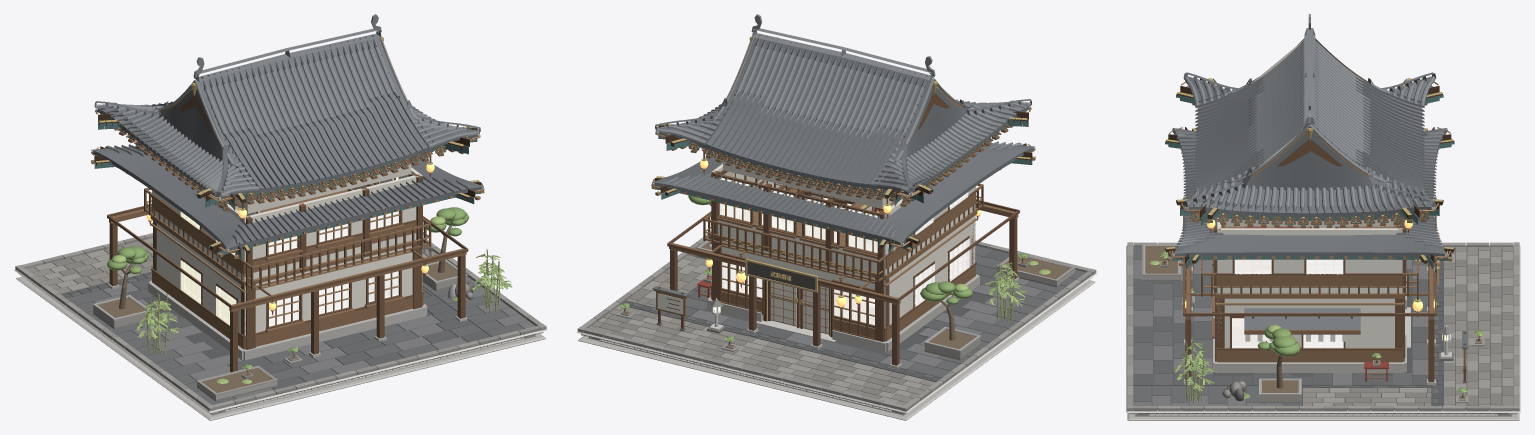
Rendered from wenmai_gallery_v5.glb.
3 views of the same model, side by side, from view 1: azimuth 30°, elevation 25°; view 2: azimuth 150°, elevation 25°; view 3: azimuth 270°, elevation 25° (orthographic). The views are drawn at different scales.
Parts seen in each view (by area): view 1: ROOF_MAIN, SITE_PAVE_FIELD, ROOF_SKIRT, SITE_BASE_COURSES, SITE_KERB, SITE_BEDS, SITE_PAVE_APRON, WALL_PlinthB, TRIM_WainB, WALL_Attic, SITE_BAMBOO_A, VER_Beam-1 (+22 smaller); view 2: ROOF_MAIN, ROOF_SKIRT, SITE_PAVE_APRON, SITE_PAVE_FIELD, SITE_BASE_COURSES, SITE_KERB, SITE_BEDS, SITE_PAVE_THRESHOLD, SITE_PAVE_WALK, WALL_F2_Sill, WALL_Attic, SITE_BAMBOO_A (+22 smaller); view 3: ROOF_MAIN, SITE_PAVE_FIELD, ROOF_SKIRT, SITE_PAVE_APRON, SITE_BASE_COURSES, SITE_KERB, SITE_PAVE_WALK, SITE_BEDS, TRIM_WainR.001, TRIM_WainR, CANOPY_Slab, WALL_F1_Side1_SEND (+22 smaller).
Part boxes in pixels (bbox=[...]): ROOF_MAIN: bbox=[94, 14, 480, 211]; SITE_PAVE_FIELD: bbox=[66, 276, 535, 404]; ROOF_SKIRT: bbox=[91, 144, 484, 260]; SITE_BASE_COURSES: bbox=[14, 269, 547, 420]; SITE_KERB: bbox=[15, 233, 546, 411]; SITE_BEDS: bbox=[92, 259, 467, 401]; SITE_PAVE_APRON: bbox=[26, 238, 152, 294]; WALL_PlinthB: bbox=[243, 305, 426, 360]; TRIM_WainB: bbox=[244, 294, 422, 349]; WALL_Attic: bbox=[237, 162, 411, 213]; SITE_BAMBOO_A: bbox=[136, 293, 179, 354]; VER_Beam-1: bbox=[229, 248, 466, 311]; ROOF_MAIN: bbox=[655, 14, 1031, 206]; ROOF_SKIRT: bbox=[651, 140, 1035, 254]; SITE_PAVE_APRON: bbox=[588, 305, 935, 405]; SITE_PAVE_FIELD: bbox=[686, 245, 1085, 377]; SITE_BASE_COURSES: bbox=[576, 268, 1097, 420]; SITE_KERB: bbox=[577, 231, 1096, 411]; SITE_BEDS: bbox=[696, 240, 1075, 360]; SITE_PAVE_THRESHOLD: bbox=[620, 301, 941, 381]; SITE_PAVE_WALK: bbox=[626, 255, 711, 308]; WALL_F2_Sill: bbox=[718, 220, 887, 274]; WALL_Attic: bbox=[723, 158, 892, 208]; SITE_BAMBOO_A: bbox=[985, 258, 1026, 322]; ROOF_MAIN: bbox=[1176, 14, 1443, 228]; SITE_PAVE_FIELD: bbox=[1133, 247, 1431, 407]; ROOF_SKIRT: bbox=[1165, 127, 1454, 269]; SITE_PAVE_APRON: bbox=[1444, 247, 1513, 407]; SITE_BASE_COURSES: bbox=[1126, 245, 1520, 420]; SITE_KERB: bbox=[1127, 242, 1519, 411]; SITE_PAVE_WALK: bbox=[1303, 388, 1431, 407]; SITE_BEDS: bbox=[1142, 244, 1301, 403]; TRIM_WainR.001: bbox=[1217, 275, 1402, 286]; TRIM_WainR: bbox=[1217, 350, 1402, 362]; CANOPY_Slab: bbox=[1244, 308, 1360, 329]; WALL_F1_Side1_SEND: bbox=[1343, 298, 1394, 348].
Size of the model in its own units: 15.98 by 12.7 by 15.98.
